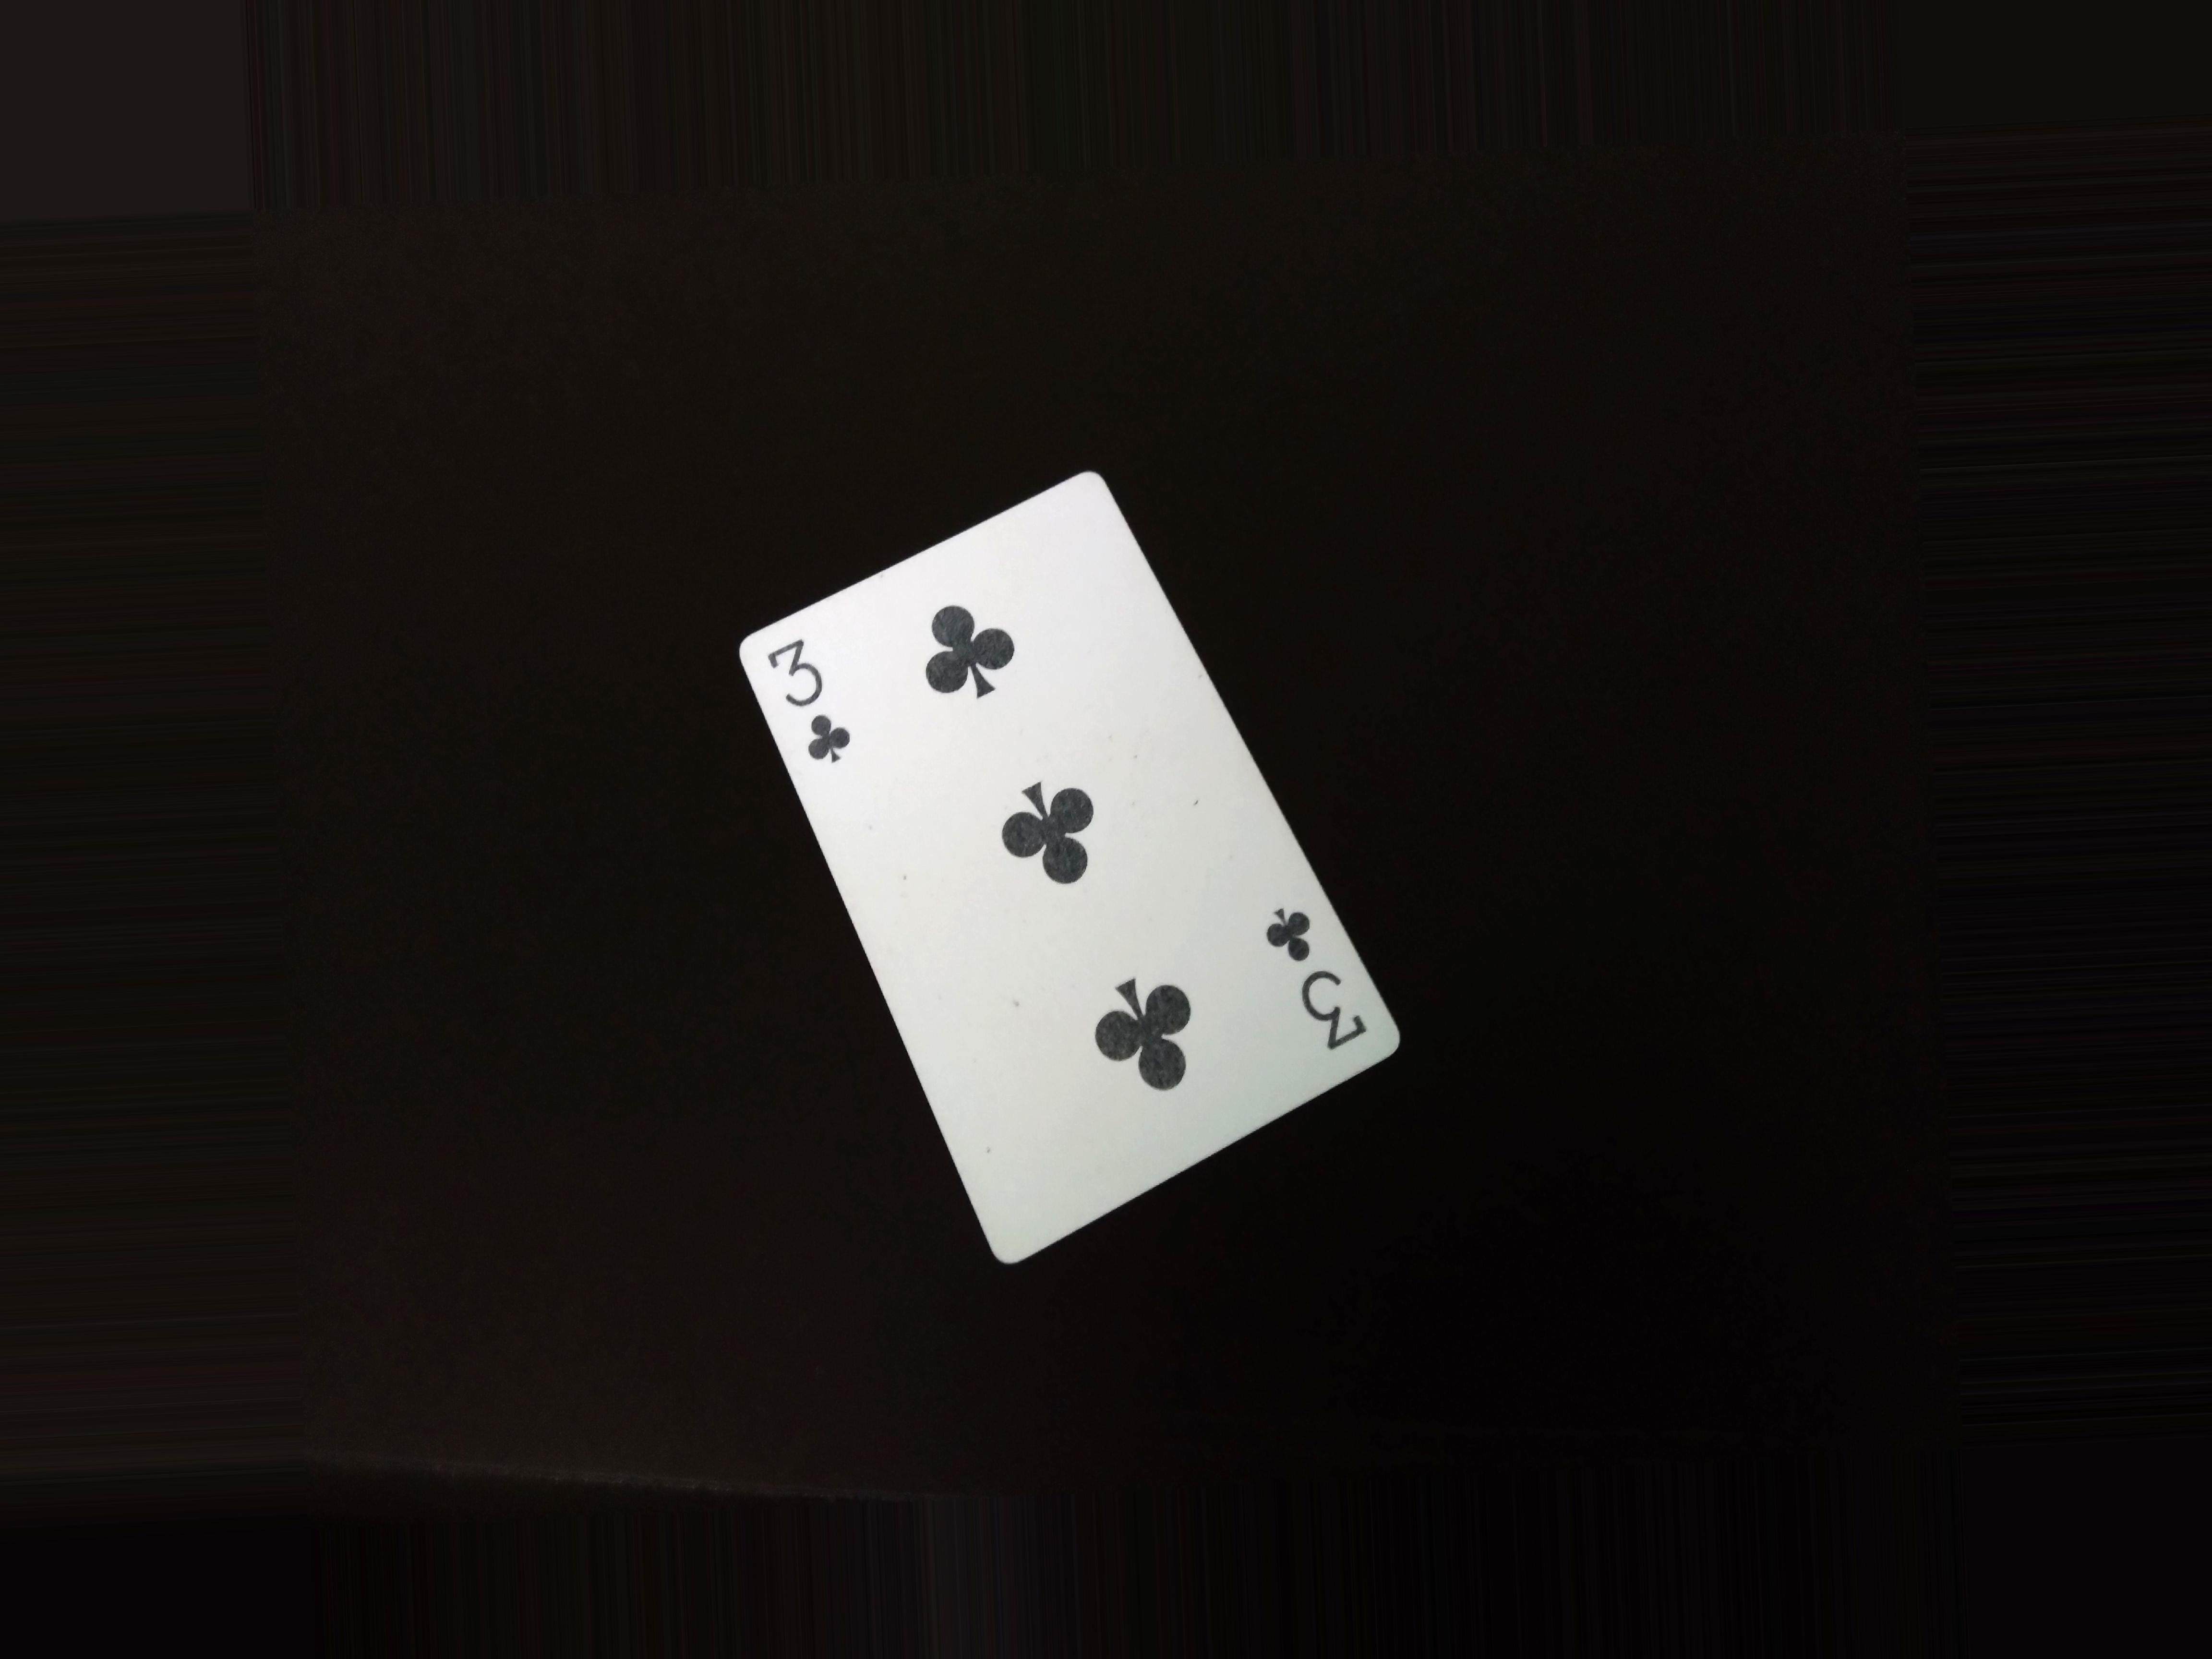3C: (752, 634, 874, 772)
